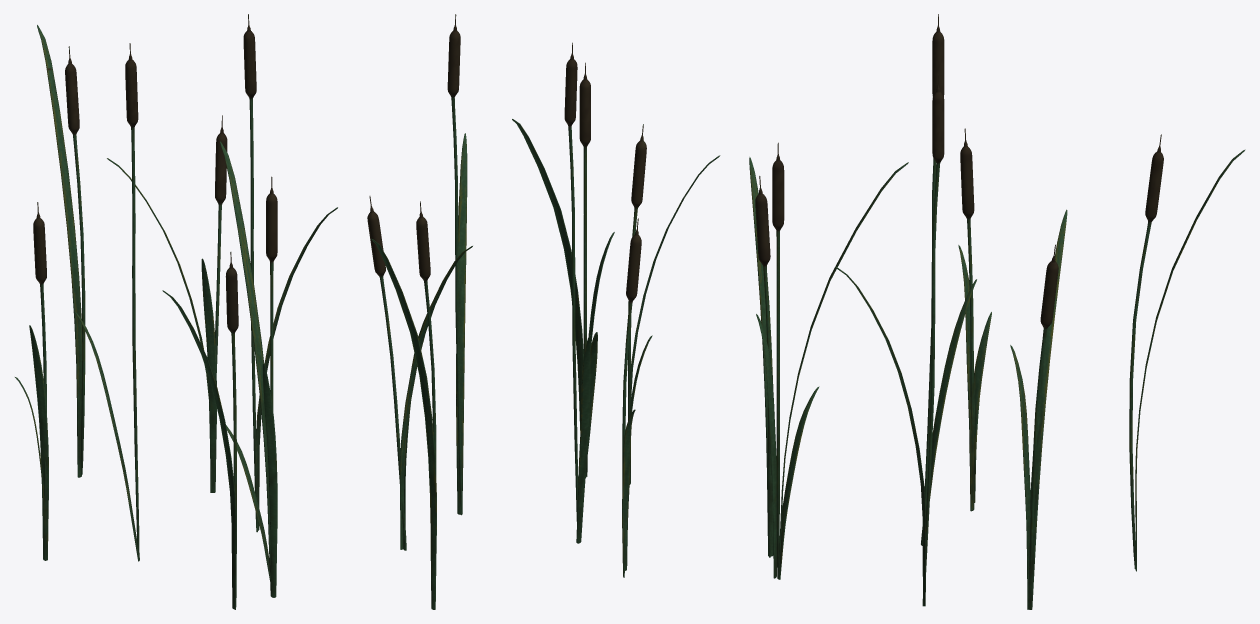
Rendered from waterweed.fbx.
3 views of the same model, side by side, from view 1: azimuth 30°, elevation 25°; view 2: azimuth 150°, elevation 25°; view 3: azimuth 270°, elevation 25° (orthographic). The views are drawn at different scales.
Parts seen in each view (by area): view 1: group43_pasted__pCube10; view 2: group43_pasted__pCube10; view 3: group43_pasted__pCube10.
Boxes of the visible parts, x1,y1,x2,y2 form: group43_pasted__pCube10: (15,14,337,609); group43_pasted__pCube10: (367,14,720,609); group43_pasted__pCube10: (749,14,1245,609).
Size of the model in its own units: 624 by 1232 by 1038.
